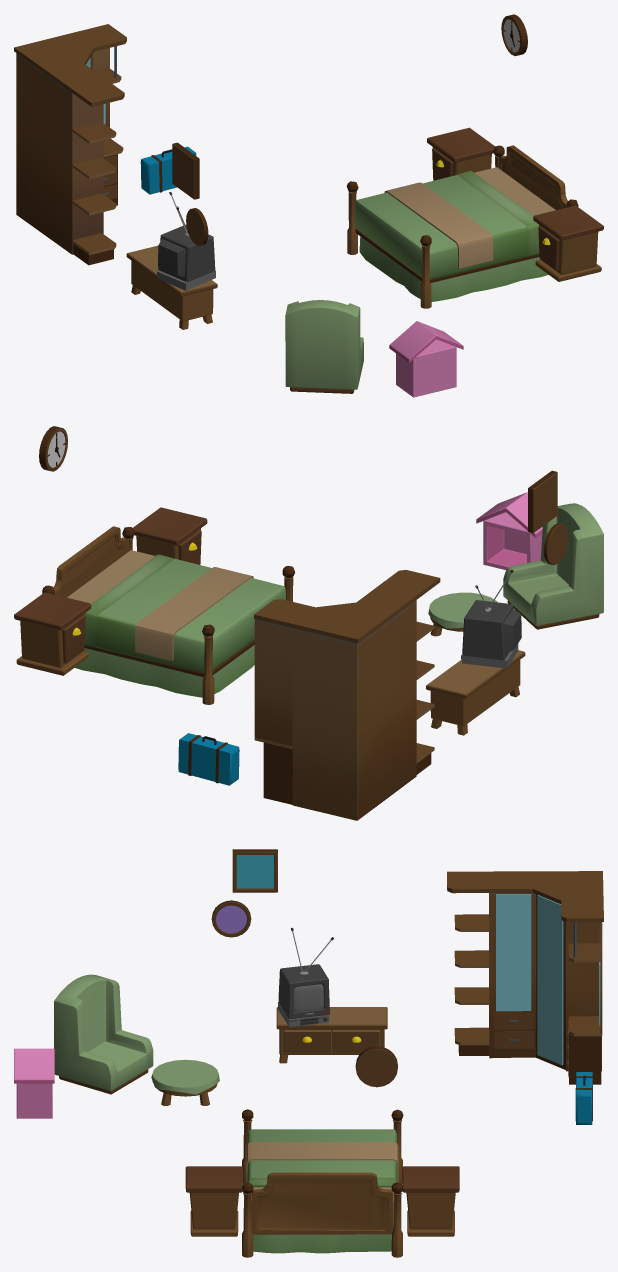
File: wardrobe bedroom.fbx
3 renders of one model, top to bottom at view 1: azimuth 30°, elevation 25°; view 2: azimuth 150°, elevation 25°; view 3: azimuth 270°, elevation 25°, orthographic. The views are drawn at different scales.
Parts seen in each view (by area): view 1: wardrobe bedroom; view 2: wardrobe bedroom; view 3: wardrobe bedroom.
Boxes of the visible parts, <box> form: wardrobe bedroom: <box>14,14,603,397</box>; wardrobe bedroom: <box>14,426,603,820</box>; wardrobe bedroom: <box>14,849,603,1257</box>.
Size of the model in its own units: 685 by 349 by 870.
